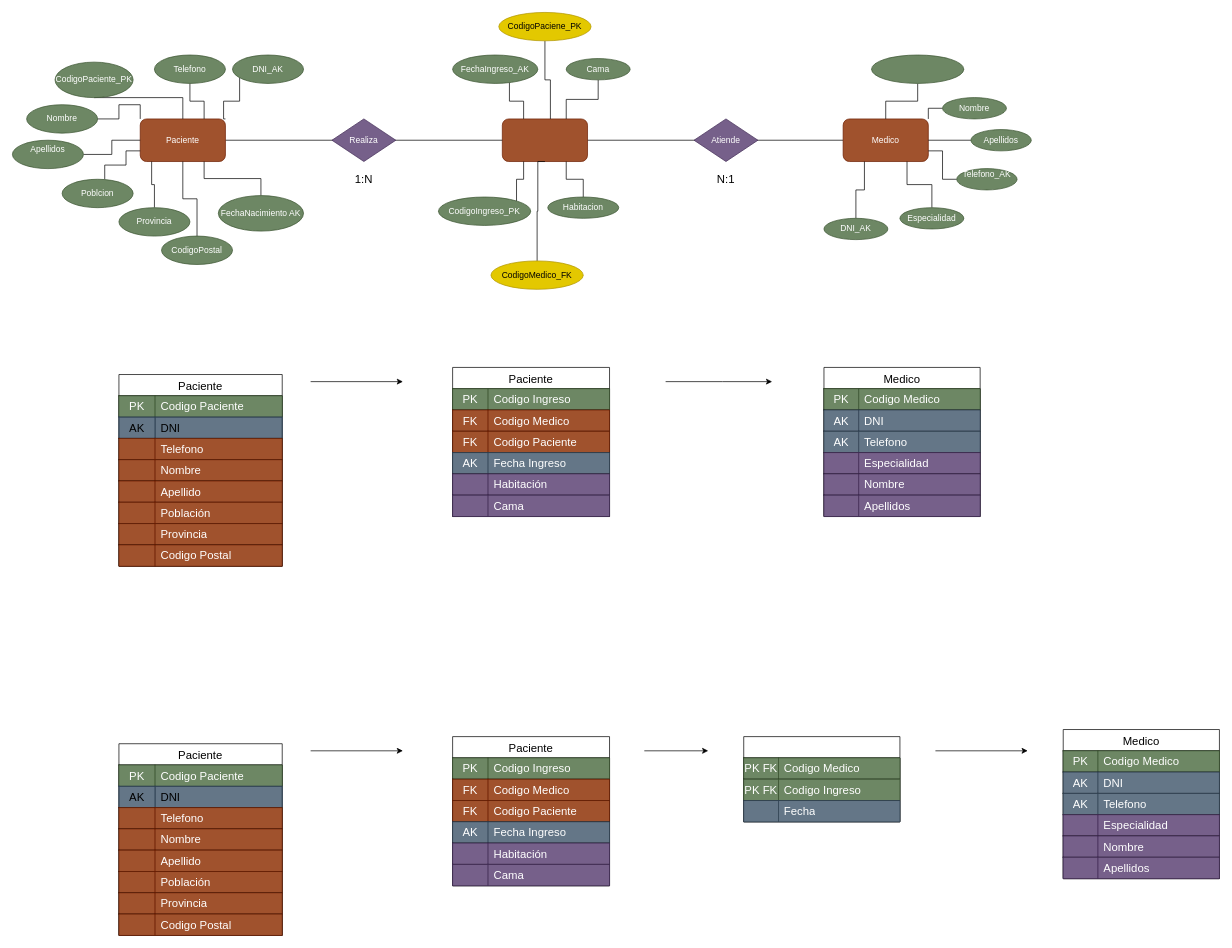
This 1232x948 diagram has some shape labels left out. Each missing label, with the box of its shape:
CodigoMedico_PK: (871, 54, 964, 83)
Ingreso: (502, 118, 588, 162)
Medico / Ingreso: (743, 736, 900, 822)
